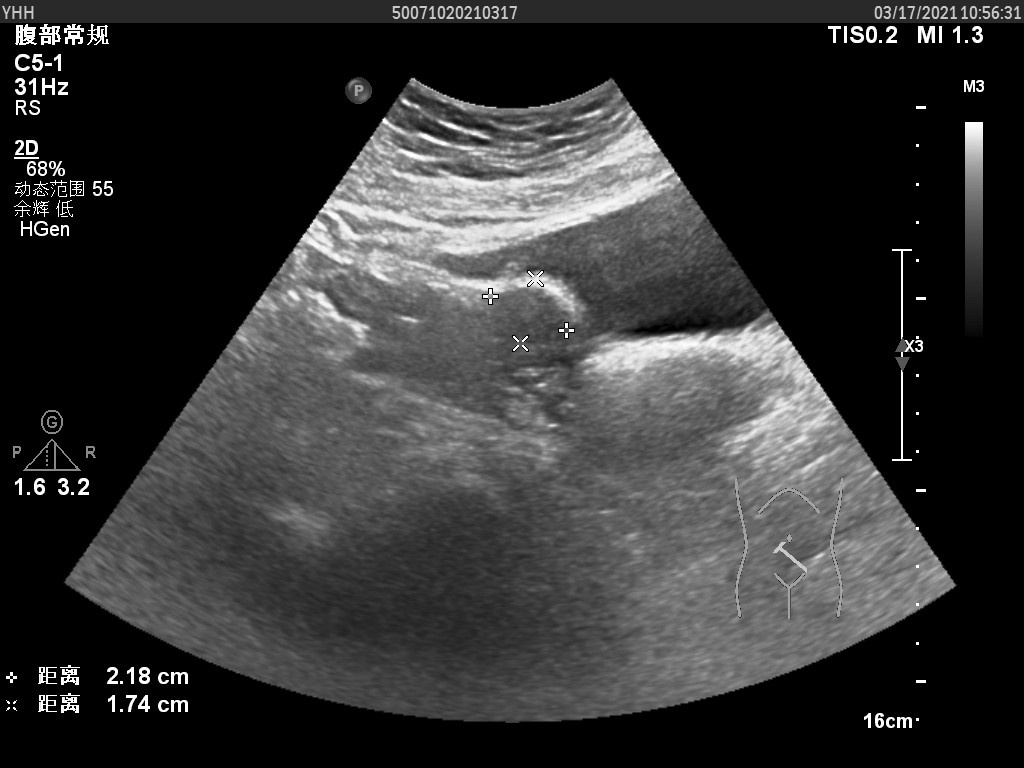肌瘤: (488, 275, 568, 344)
